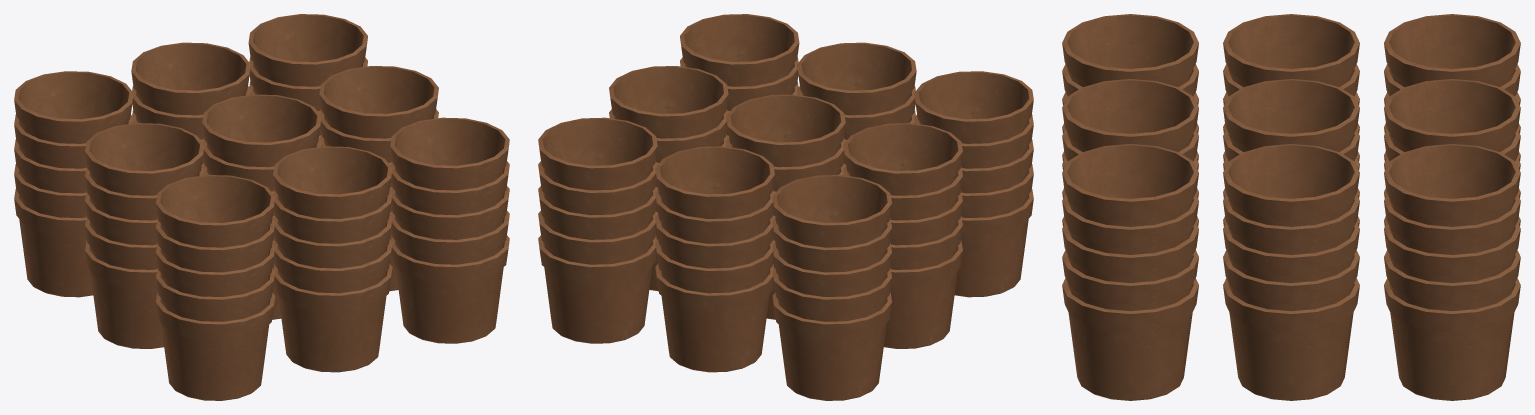
The model's file is VaseGroup.fbx.
3 renders of one model, left to right at view 1: azimuth 30°, elevation 25°; view 2: azimuth 150°, elevation 25°; view 3: azimuth 270°, elevation 25°, orthographic. The views are drawn at different scales.
Parts seen in each view (by area): view 1: Vase32, Vase30, Vase31, Vase43, Vase44, Vase42, Vase14, Vase27, Vase12, Vase28, Vase29, Vase13 (+21 smaller); view 2: Vase2, Vase, Vase1, Vase13, Vase14, Vase12, Vase44, Vase27, Vase28, Vase42, Vase29, Vase43 (+21 smaller); view 3: Vase, Vase30, Vase15, Vase14, Vase44, Vase29, Vase27, Vase12, Vase42, Vase28, Vase13, Vase43 (+15 smaller).
Part boxes in pixels (box(x1,y1,x2,y2)): Vase32: box(156, 292, 275, 400); Vase30: box(391, 235, 509, 343); Vase31: box(274, 264, 392, 372); Vase43: box(273, 146, 392, 218); Vase44: box(390, 117, 509, 190); Vase42: box(156, 175, 275, 247); Vase14: box(248, 14, 367, 86); Vase27: box(85, 123, 204, 195); Vase12: box(14, 71, 133, 143); Vase28: box(202, 94, 321, 167); Vase29: box(319, 66, 438, 138); Vase13: box(131, 42, 250, 115); Vase2: box(772, 292, 891, 400); Vase: box(538, 235, 656, 343); Vase1: box(655, 264, 773, 372); Vase13: box(655, 146, 774, 218); Vase14: box(538, 117, 657, 190); Vase12: box(772, 175, 891, 247); Vase44: box(680, 14, 799, 86); Vase27: box(843, 123, 962, 195); Vase28: box(726, 94, 845, 167); Vase42: box(914, 71, 1033, 143); Vase29: box(609, 66, 728, 138); Vase43: box(797, 42, 916, 115); Vase: box(1384, 278, 1520, 400); Vase30: box(1062, 278, 1198, 400); Vase15: box(1223, 278, 1359, 400); Vase14: box(1384, 144, 1520, 226); Vase44: box(1062, 144, 1198, 226); Vase29: box(1223, 144, 1359, 226); Vase27: box(1223, 14, 1359, 87); Vase12: box(1384, 14, 1520, 86); Vase42: box(1062, 14, 1198, 86); Vase28: box(1223, 79, 1359, 151); Vase13: box(1384, 79, 1520, 151); Vase43: box(1062, 79, 1198, 151).
Size of the model in its own units: 33.79 by 17.4 by 34.89.
